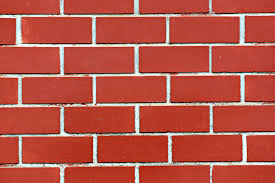brick: (97, 134, 169, 163), (138, 105, 211, 133), (21, 135, 94, 163), (171, 134, 243, 162), (21, 16, 92, 43), (63, 107, 136, 133), (169, 75, 240, 101), (64, 47, 134, 73), (96, 16, 165, 42), (23, 76, 92, 102), (169, 17, 240, 42), (139, 46, 209, 71), (96, 77, 166, 102), (212, 105, 275, 132), (212, 46, 275, 72), (1, 107, 59, 134), (1, 47, 59, 73), (63, 166, 135, 183), (138, 165, 210, 182), (212, 164, 275, 183), (1, 166, 61, 182), (63, 1, 132, 14), (245, 15, 275, 44), (139, 1, 209, 13), (245, 74, 275, 102), (245, 134, 275, 161), (1, 1, 60, 14), (213, 1, 275, 12), (1, 135, 19, 163), (1, 78, 17, 105), (1, 17, 16, 43)
